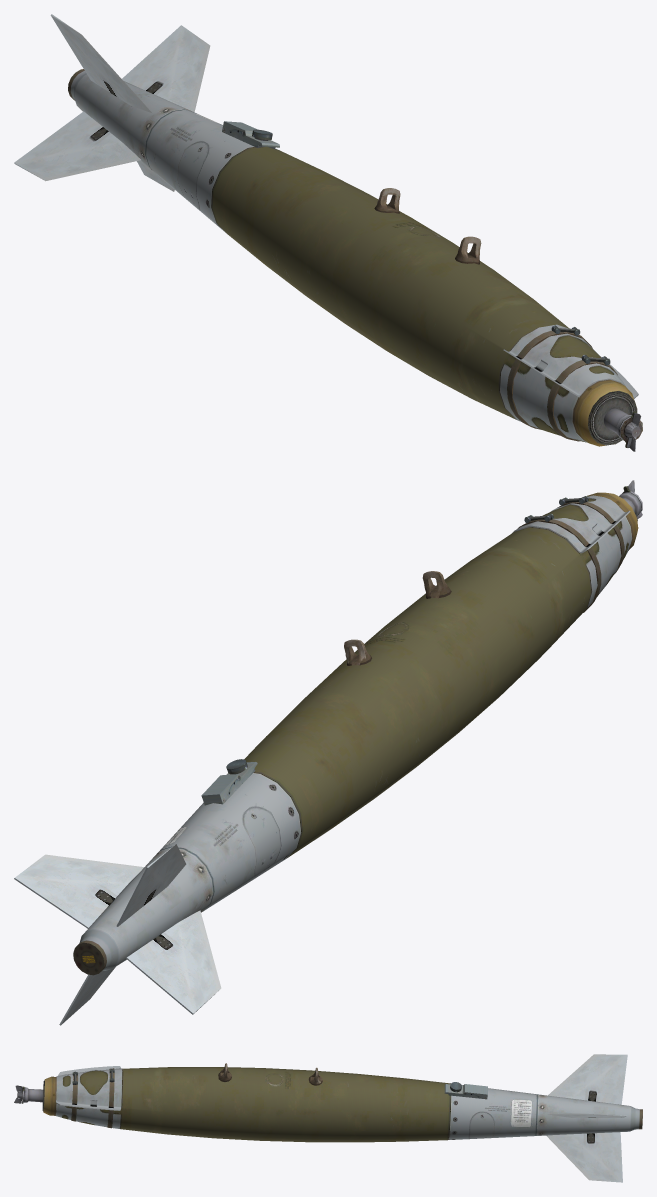
File: GBU-38.FBX
The picture shows the model from 3 angles, top to bottom: view 1: azimuth 30°, elevation 25°; view 2: azimuth 150°, elevation 25°; view 3: azimuth 270°, elevation 25°; orthographic projection. The views are drawn at different scales.
Visible parts, largest first — view 1: Body; view 2: Body; view 3: Body.
Boxes of the visible parts, <box> form: Body: <box>14,14,642,451</box>; Body: <box>14,480,642,1025</box>; Body: <box>14,1054,642,1182</box>.
Bounding box in the file's own units: 0.424 × 0.4618 × 2.34.
